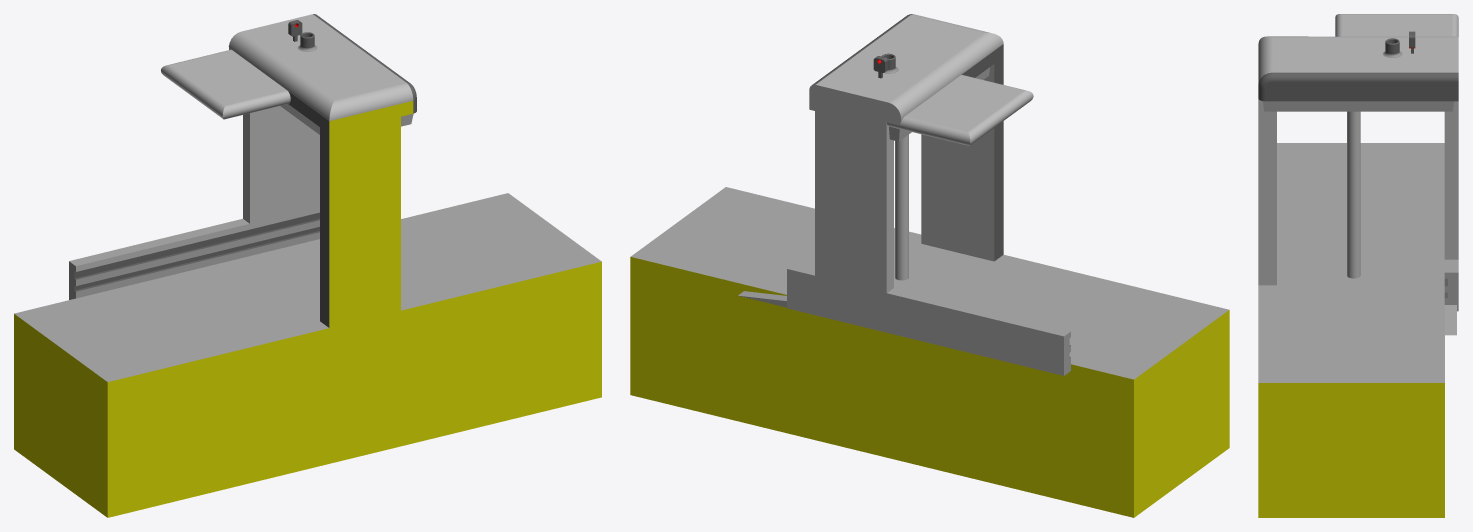
The model's file is 出卷机(1).FBX.
The picture shows the model from 3 angles, left to right: view 1: azimuth 30°, elevation 25°; view 2: azimuth 150°, elevation 25°; view 3: azimuth 270°, elevation 25°; orthographic projection. The views are drawn at different scales.
Parts seen in each view (by area): view 1: *SOL215; view 2: *SOL215; view 3: *SOL215.
Part boxes in pixels (x1,y1,x2,y2): *SOL215: (14, 14, 601, 517); *SOL215: (630, 14, 1229, 517); *SOL215: (1258, 14, 1458, 517).
Bounding box in the file's own units: 15.75 × 11.42 × 5.55.
